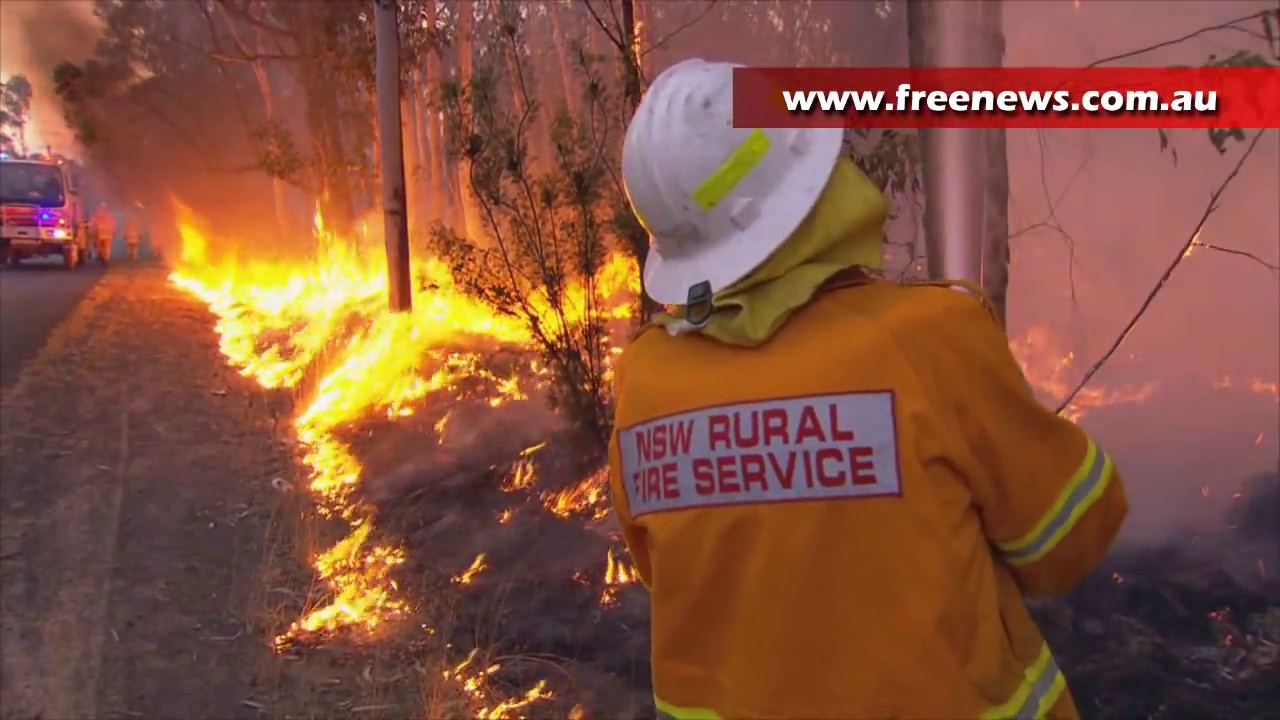fire: (171, 206, 586, 385), (291, 530, 404, 643), (279, 381, 374, 493), (446, 653, 538, 720), (1022, 321, 1066, 393), (600, 251, 641, 322), (578, 480, 600, 514), (606, 550, 616, 582)
